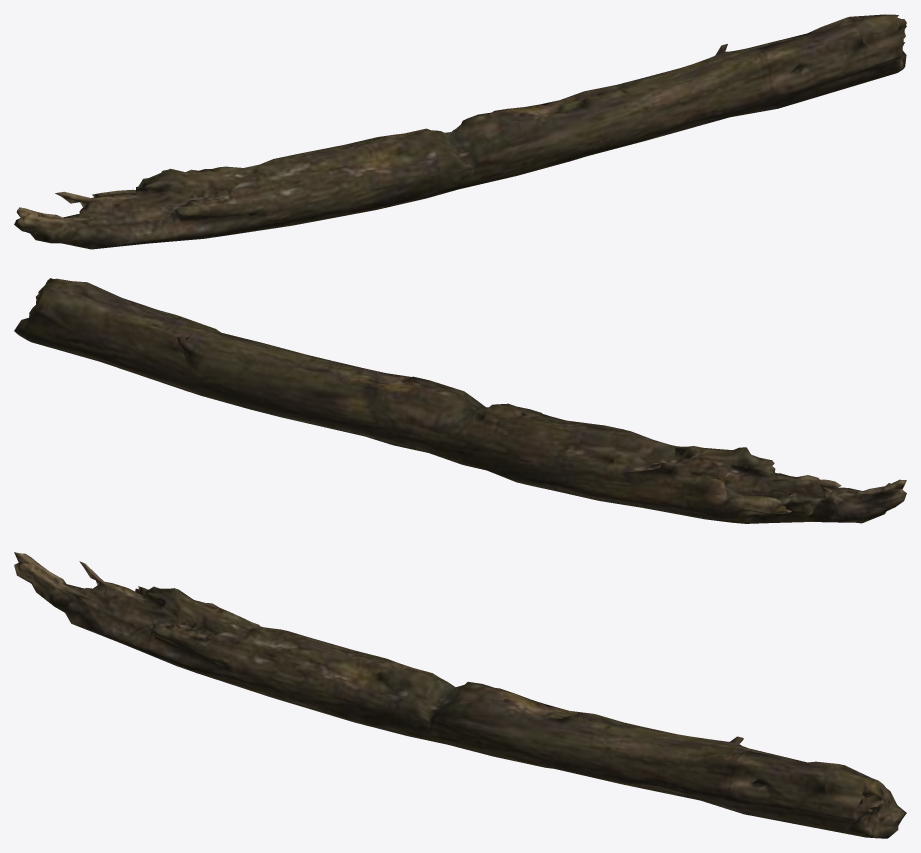
File: tree-dead-trunk.lite.d7314f89.glb
The picture shows the model from 3 angles, top to bottom: view 1: azimuth 30°, elevation 25°; view 2: azimuth 150°, elevation 25°; view 3: azimuth 330°, elevation 25°; orthographic projection.
Visible parts, largest first — view 1: model; view 2: model; view 3: model.
Part boxes in pixels (left/top/right/bottom): model: left=14, top=14, right=906, bottom=249; model: left=14, top=278, right=906, bottom=523; model: left=14, top=552, right=906, bottom=838.
Bounding box in the file's own units: 3.04 × 0.287 × 0.2746.
1 material, 1 textured.
